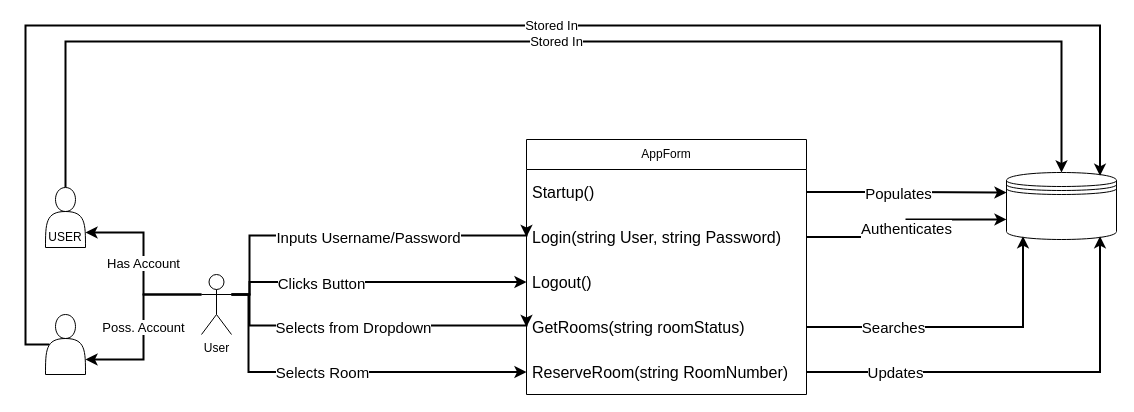
The diagram is 1134 pixels wide and 412 high, and some of its shapes have lost their labels. Here are the shapes that lost their labels. From the top down, the centre of each, then its label:
At point 1061,206: "SQL-Lite".
At point 65,344: "Admin".
